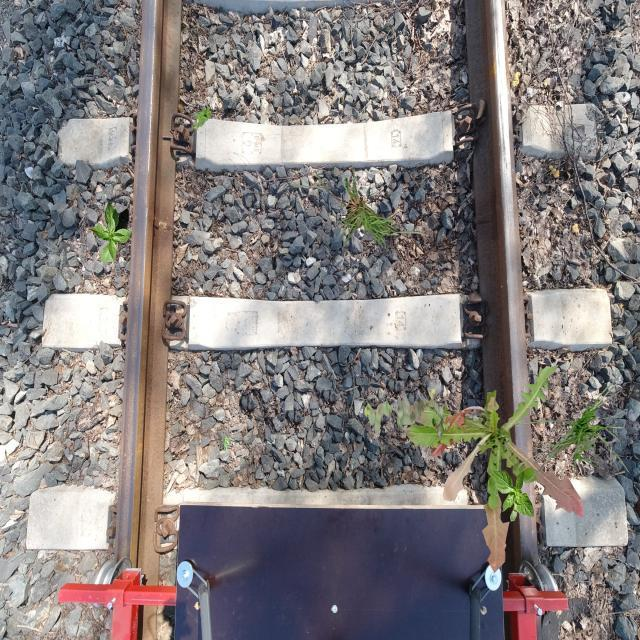Plant: (404, 365, 584, 574), (513, 373, 632, 496), (291, 161, 434, 251), (364, 387, 451, 438), (90, 203, 132, 263), (493, 468, 534, 522), (193, 106, 212, 130), (221, 437, 235, 452)
